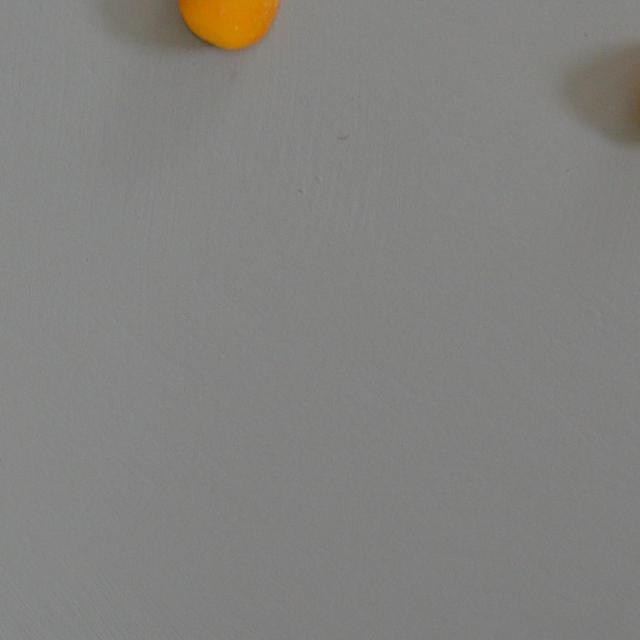dañado: (170, 0, 283, 52)
